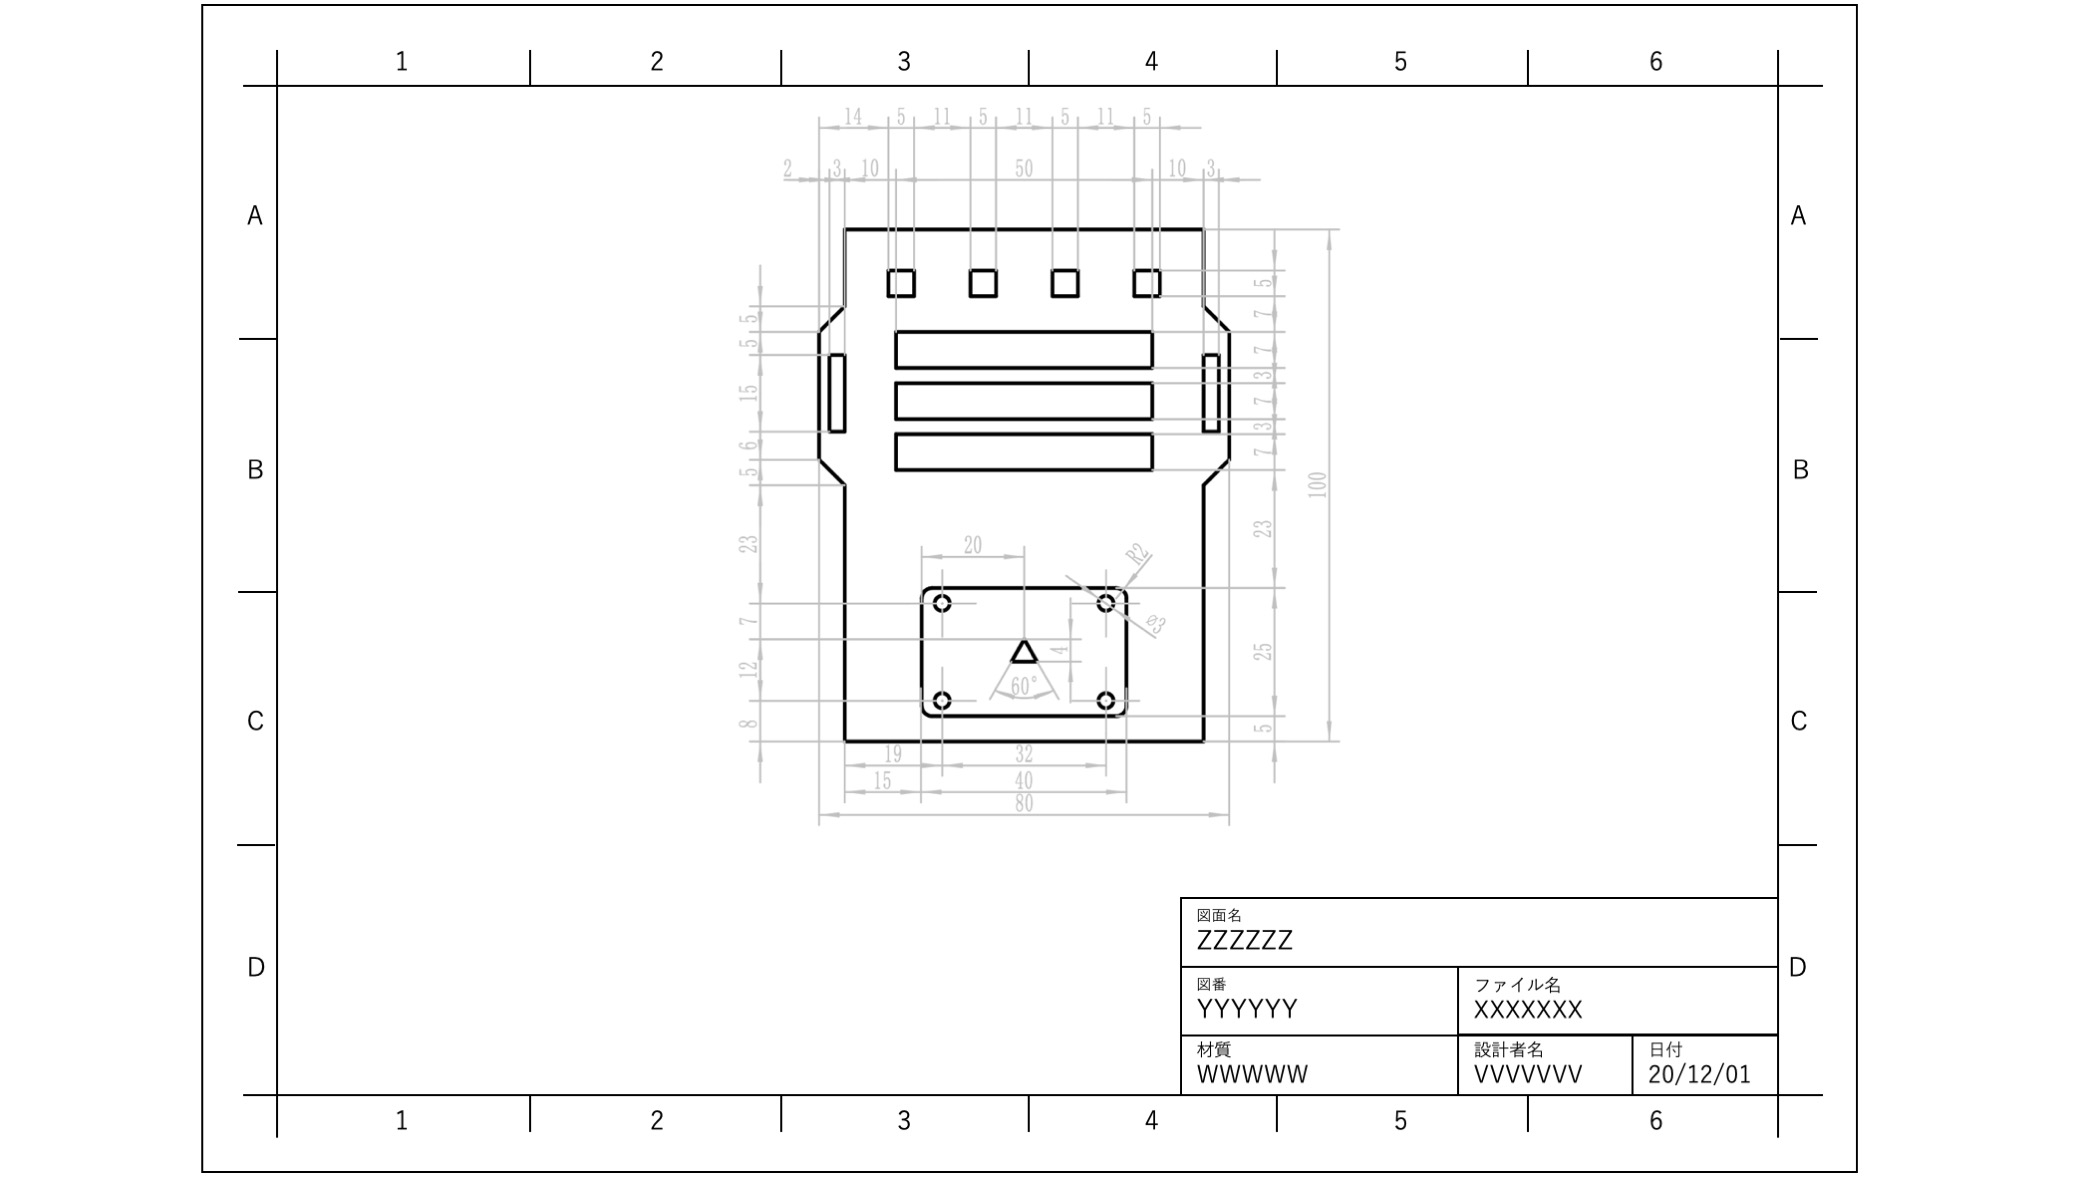circle: (926, 588, 958, 616), (927, 685, 959, 711), (1095, 685, 1118, 712), (1095, 588, 1118, 613)
rectangle: (886, 371, 1161, 424), (878, 428, 1168, 479), (884, 324, 1160, 376), (816, 345, 857, 443), (1196, 337, 1227, 440), (868, 257, 927, 306), (953, 260, 1012, 304), (1038, 260, 1090, 304), (1122, 258, 1171, 304)
triangle: (1004, 639, 1046, 665)
